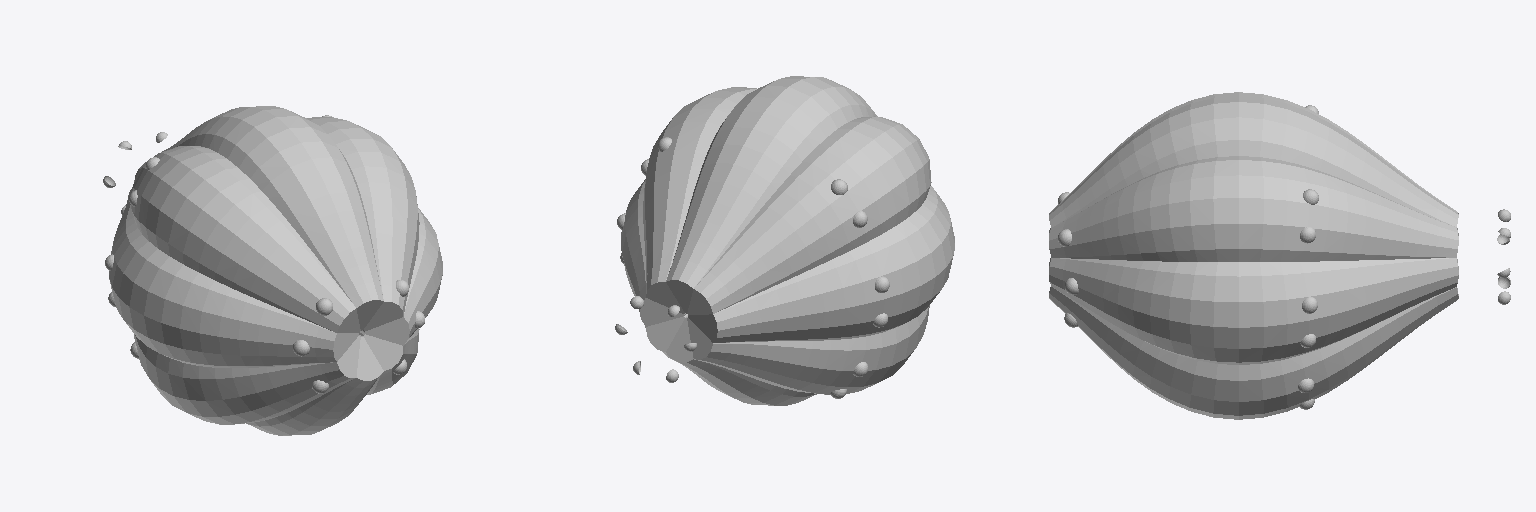
File: defaultMaterial.obj
3 views of the same model, side by side, from view 1: azimuth 30°, elevation 25°; view 2: azimuth 150°, elevation 25°; view 3: azimuth 270°, elevation 25° (orthographic).
Visible parts, largest first — view 1: defaultMaterial; view 2: defaultMaterial; view 3: defaultMaterial.
Part boxes in pixels (left/top/right/bottom): defaultMaterial: left=103, top=106, right=442, bottom=435; defaultMaterial: left=615, top=76, right=954, bottom=405; defaultMaterial: left=1049, top=92, right=1510, bottom=419.
Size of the model in its own units: 1.1 by 1.1 by 1.5.